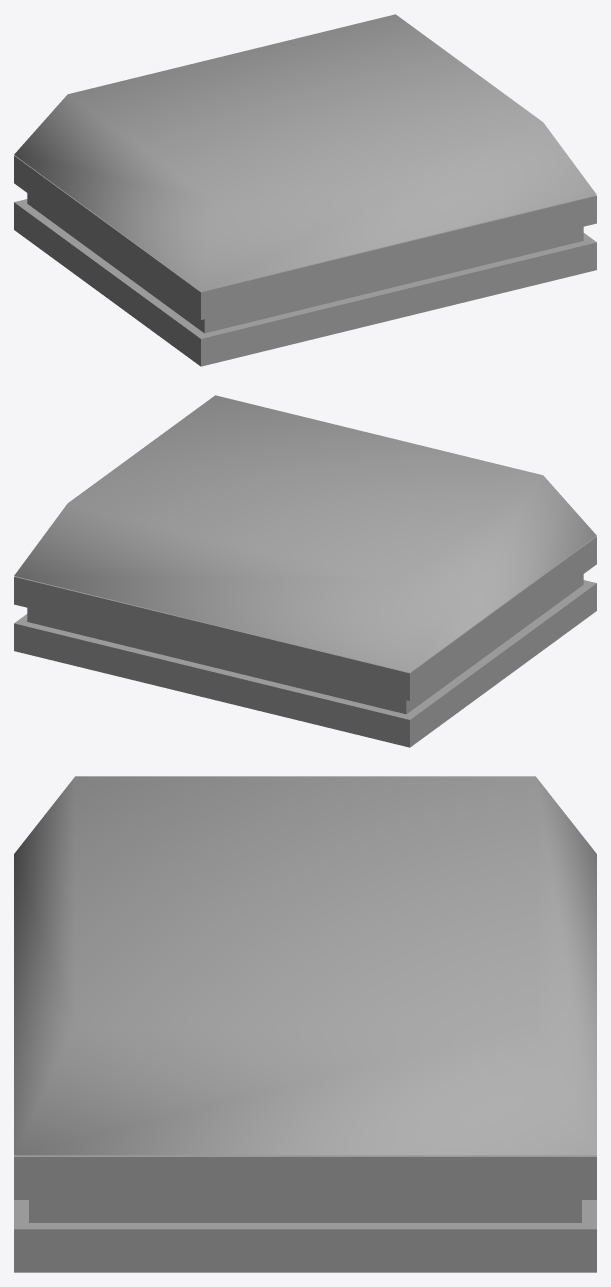
File: Skylight.fbx
3 views of the same model, one above another, from view 1: azimuth 30°, elevation 25°; view 2: azimuth 150°, elevation 25°; view 3: azimuth 270°, elevation 25° (orthographic). The views are drawn at different scales.
Parts seen in each view (by area): view 1: polySurface37, polySurface36; view 2: polySurface37, polySurface36; view 3: polySurface37, polySurface36.
Part boxes in pixels (bbox=[...]): polySurface37: bbox=[14, 14, 596, 291]; polySurface36: bbox=[14, 155, 596, 366]; polySurface37: bbox=[14, 395, 596, 672]; polySurface36: bbox=[14, 536, 596, 747]; polySurface37: bbox=[14, 776, 596, 1155]; polySurface36: bbox=[14, 1155, 596, 1272].
Bounding box in the file's own units: 2193 × 750 × 1793.
2 materials, 1 textured.
